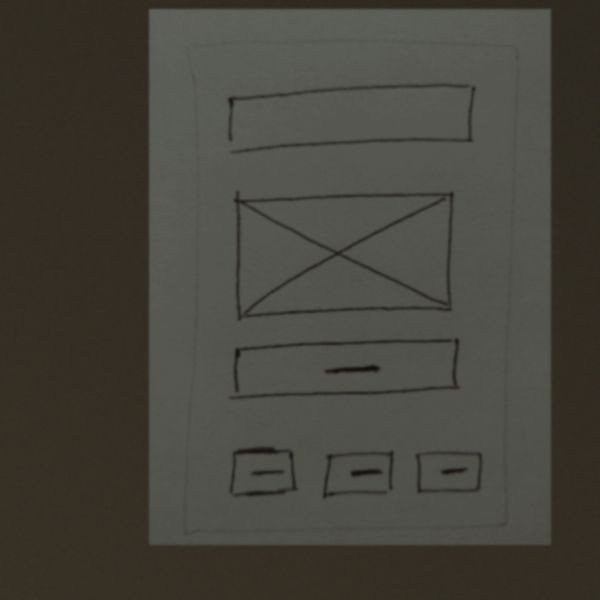button: (221, 334, 468, 403), (221, 441, 304, 502), (314, 447, 399, 505), (411, 442, 492, 501)
image: (224, 184, 476, 327)
text_input: (214, 68, 480, 158)
